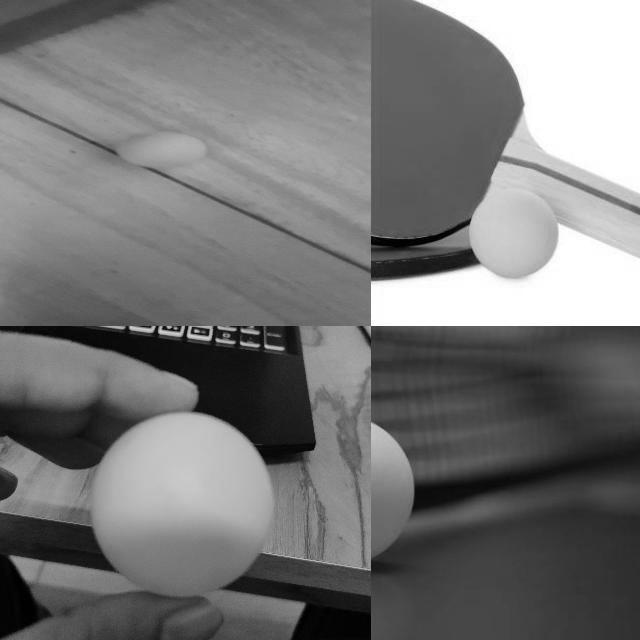ping-pong-ball: (95, 408, 273, 596), (468, 190, 556, 278), (371, 414, 416, 568), (117, 130, 205, 166)
